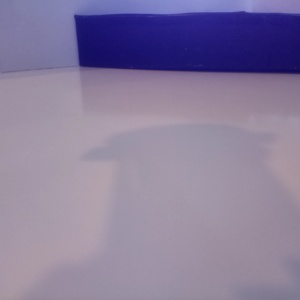zone: (74, 13, 300, 73)
